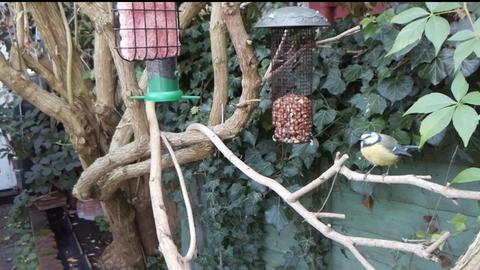blue tit: (357, 130, 420, 182)
